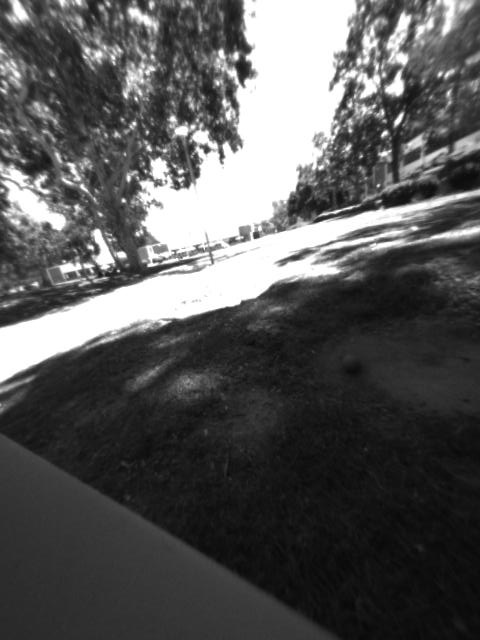dogtoy: (332, 345, 372, 380)
